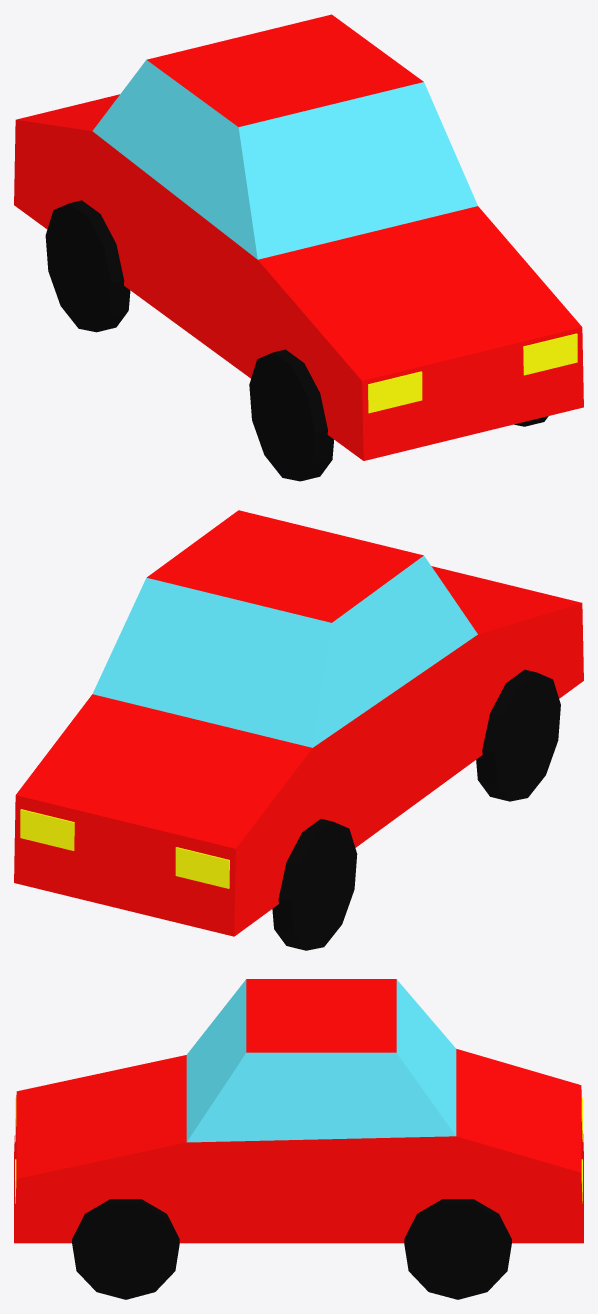
The model's file is car_compact.glb.
3 views of the same model, one above another, from view 1: azimuth 30°, elevation 25°; view 2: azimuth 150°, elevation 25°; view 3: azimuth 270°, elevation 25° (orthographic). The views are drawn at different scales.
Parts seen in each view (by area): view 1: pCube8; view 2: pCube8; view 3: pCube8.
Boxes of the visible parts, x1,y1,x2,y2 form: pCube8: (14,14,583,481); pCube8: (14,510,583,950); pCube8: (14,979,583,1299).
Size of the model in its own units: 0.0363 by 0.0411 by 0.0901.
